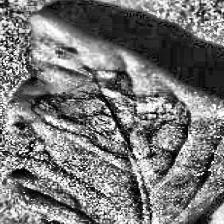disease: (0, 10, 224, 224)
